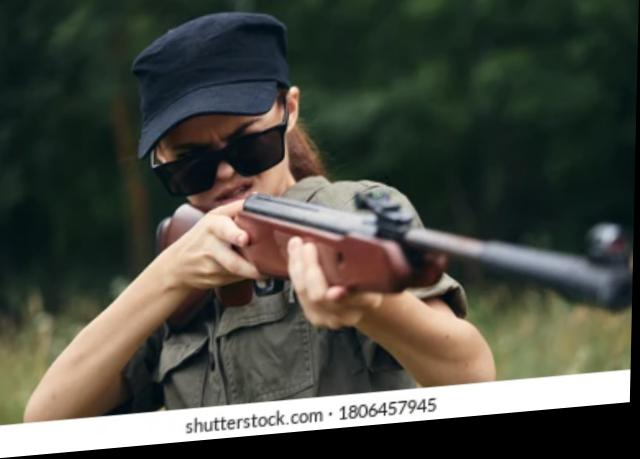other: (140, 10, 428, 413)
